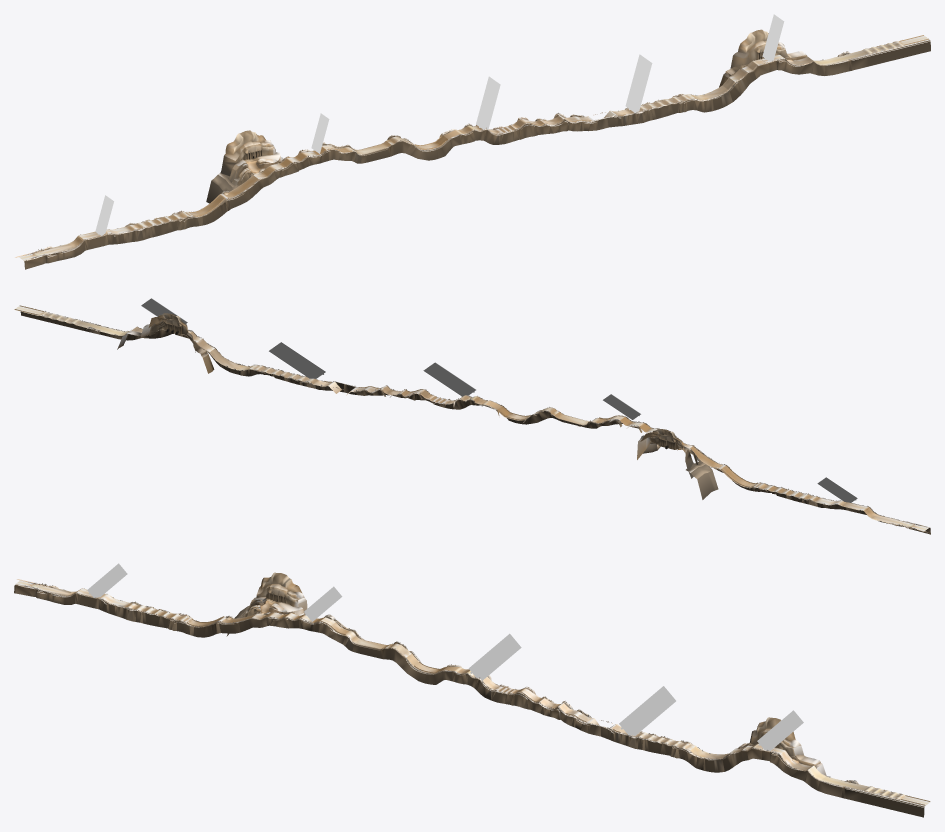
File: Desert_15.fbx
The picture shows the model from 3 angles, top to bottom: view 1: azimuth 30°, elevation 25°; view 2: azimuth 150°, elevation 25°; view 3: azimuth 330°, elevation 25°; orthographic projection.
Parts seen in each view (by area): view 1: Mountain_01, Ground_01, Light_01, Road_01, Tree_01; view 2: Mountain_01, Ground_01, Light_01, Road_01, Tree_01; view 3: Mountain_01, Ground_01, Light_01, Road_01, Tree_01.
Part boxes in pixels (x1=…): Mountain_01: x1=24, y1=29, x2=930, y2=269; Ground_01: x1=19, y1=35, x2=927, y2=260; Light_01: x1=95, y1=14, x2=784, y2=235; Road_01: x1=23, y1=41, x2=909, y2=260; Tree_01: x1=31, y1=40, x2=924, y2=258; Mountain_01: x1=20, y1=311, x2=930, y2=534; Ground_01: x1=15, y1=306, x2=928, y2=530; Light_01: x1=141, y1=298, x2=857, y2=502; Road_01: x1=14, y1=309, x2=928, y2=531; Tree_01: x1=20, y1=308, x2=918, y2=527; Mountain_01: x1=14, y1=572, x2=925, y2=817; Ground_01: x1=16, y1=580, x2=930, y2=805; Light_01: x1=87, y1=563, x2=803, y2=750; Road_01: x1=16, y1=581, x2=920, y2=804; Tree_01: x1=25, y1=583, x2=919, y2=804.
Size of the model in its own units: 149545 by 12967 by 6884.
